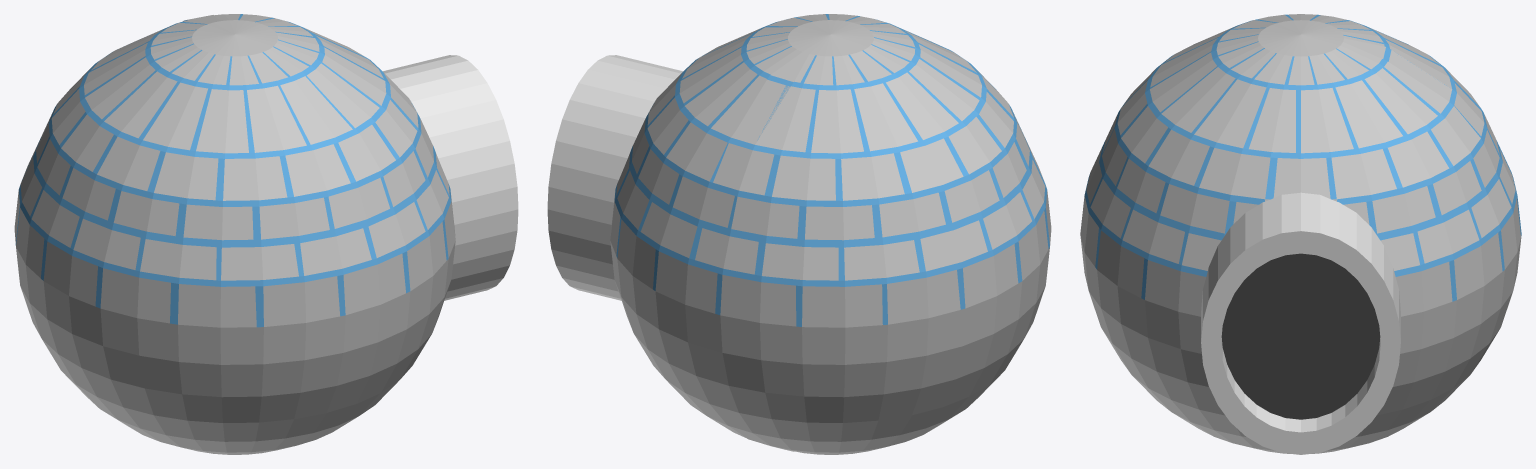
Rendered from igloo.fbx.
The picture shows the model from 3 angles, left to right: view 1: azimuth 30°, elevation 25°; view 2: azimuth 150°, elevation 25°; view 3: azimuth 270°, elevation 25°; orthographic projection.
Visible parts, largest first — view 1: Sphere, Cylinder; view 2: Sphere, Cylinder; view 3: Sphere, Cylinder.
Part boxes in pixels (x1=…): Sphere: x1=14, y1=14, x2=455, y2=454; Cylinder: x1=383, y1=55, x2=518, y2=300; Sphere: x1=610, y1=14, x2=1051, y2=454; Cylinder: x1=547, y1=55, x2=682, y2=300; Sphere: x1=1080, y1=14, x2=1521, y2=453; Cylinder: x1=1201, y1=192, x2=1400, y2=454.
Size of the model in its own units: 3333 by 3000 by 3005.
